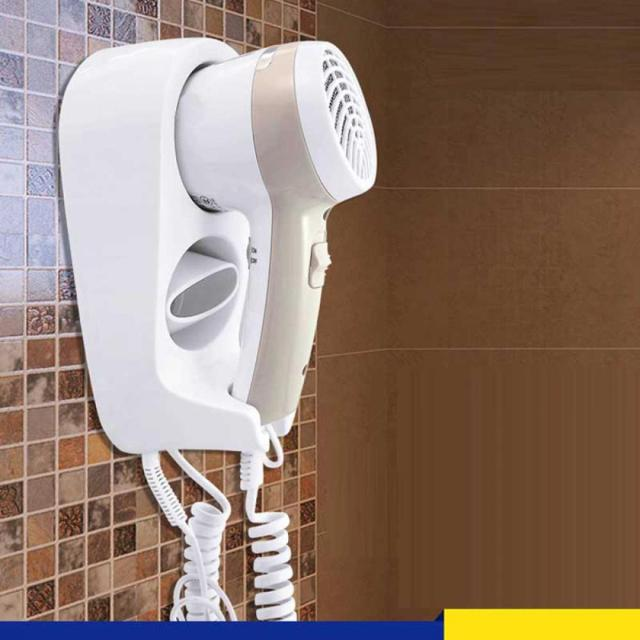dryer: (43, 25, 420, 622)
